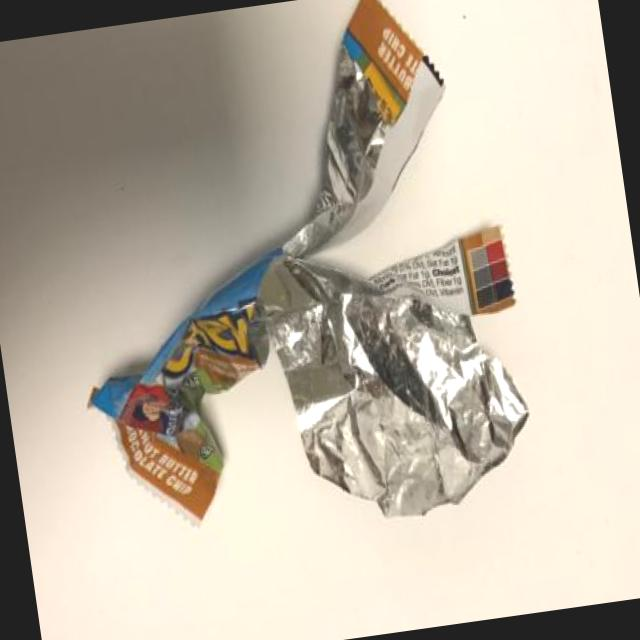giay_goi: (88, 0, 444, 524), (366, 226, 513, 315)
nhom: (259, 260, 528, 517)
